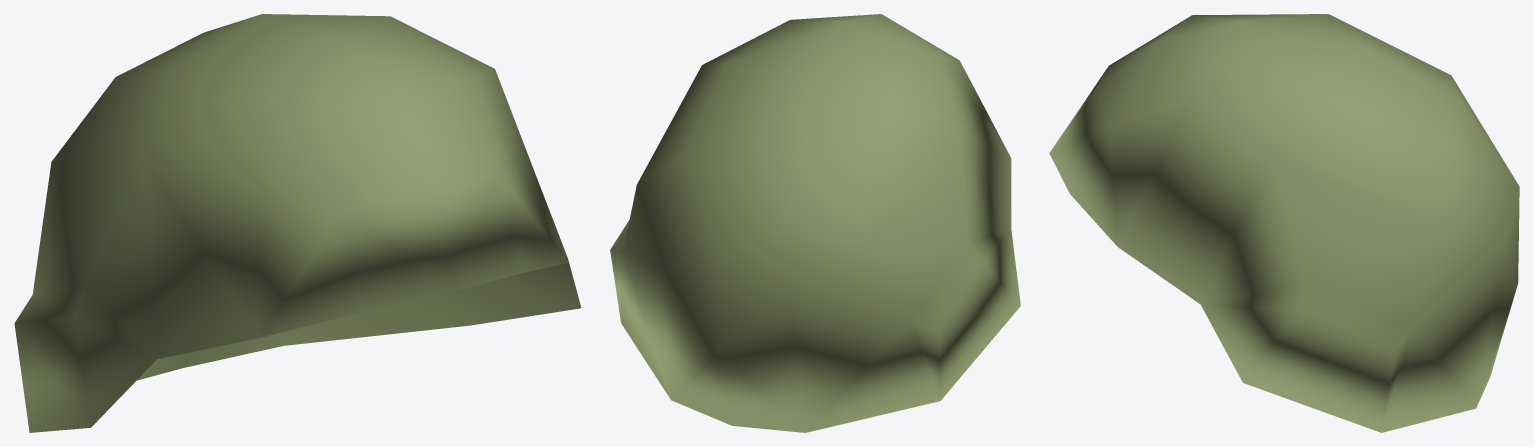
File: Speedy_Soldier_Helmet_Type_2.fbx
The picture shows the model from 3 angles, left to right: view 1: azimuth 30°, elevation 25°; view 2: azimuth 150°, elevation 25°; view 3: azimuth 270°, elevation 25°; orthographic projection. The views are drawn at different scales.
Parts seen in each view (by area): view 1: Speedy_Soldier_Helmet_Type_2; view 2: Speedy_Soldier_Helmet_Type_2; view 3: Speedy_Soldier_Helmet_Type_2.
Part boxes in pixels (x1=…): Speedy_Soldier_Helmet_Type_2: x1=14, y1=14, x2=581, y2=432; Speedy_Soldier_Helmet_Type_2: x1=610, y1=14, x2=1020, y2=432; Speedy_Soldier_Helmet_Type_2: x1=1049, y1=14, x2=1519, y2=432.
Size of the model in its own units: 28.05 by 24.12 by 28.97.
